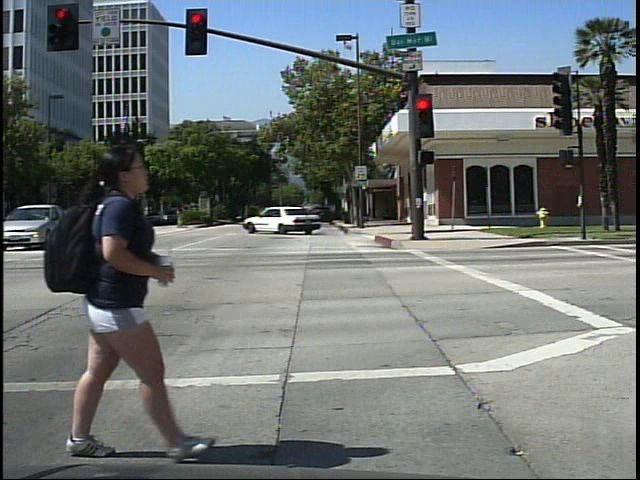person: (44, 128, 199, 467)
